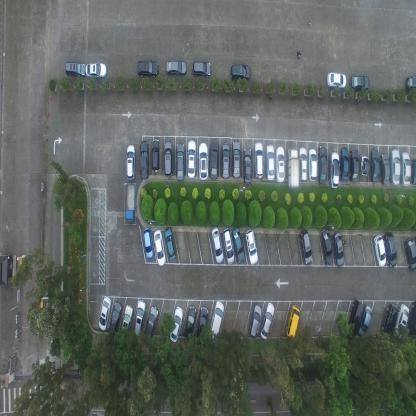car: (209, 300, 226, 346), (346, 299, 366, 338), (260, 300, 276, 341), (381, 304, 399, 340), (285, 303, 301, 341), (196, 306, 210, 346), (109, 300, 123, 340), (395, 302, 410, 339), (145, 305, 160, 342), (134, 298, 147, 340), (357, 303, 373, 337), (248, 303, 263, 339), (184, 304, 198, 342), (170, 306, 184, 343), (98, 295, 112, 332), (372, 234, 387, 268), (321, 228, 334, 267), (299, 230, 313, 266), (383, 231, 397, 267), (232, 226, 245, 264), (211, 227, 224, 264), (245, 228, 258, 265), (400, 149, 412, 188), (288, 146, 299, 188), (126, 183, 137, 225), (136, 60, 160, 79), (154, 229, 166, 267), (121, 303, 133, 341), (404, 234, 416, 272), (223, 227, 235, 264), (86, 61, 108, 81), (198, 143, 209, 182), (254, 142, 265, 180), (165, 58, 187, 77), (228, 62, 251, 80), (143, 227, 155, 261), (164, 226, 176, 260), (126, 144, 137, 181), (187, 140, 197, 180), (140, 140, 150, 180), (191, 58, 211, 78), (65, 61, 86, 80), (333, 231, 344, 267), (391, 148, 401, 187), (164, 140, 174, 179), (350, 73, 370, 92), (327, 71, 346, 91), (330, 151, 340, 189), (298, 147, 308, 185), (308, 148, 319, 182), (349, 146, 359, 183), (340, 146, 350, 183), (276, 146, 286, 183), (176, 142, 185, 183), (318, 146, 327, 186), (266, 143, 275, 183), (232, 142, 242, 178), (210, 140, 219, 180), (221, 141, 230, 180), (406, 299, 415, 338), (151, 139, 161, 174), (243, 146, 252, 184), (381, 152, 391, 186), (370, 149, 380, 183), (360, 155, 370, 177), (405, 74, 415, 92), (412, 158, 416, 186)
